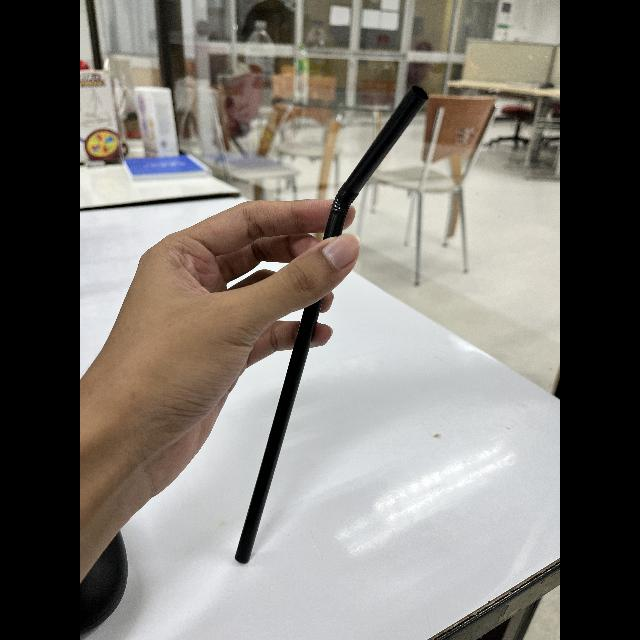straw: (230, 79, 430, 566)
